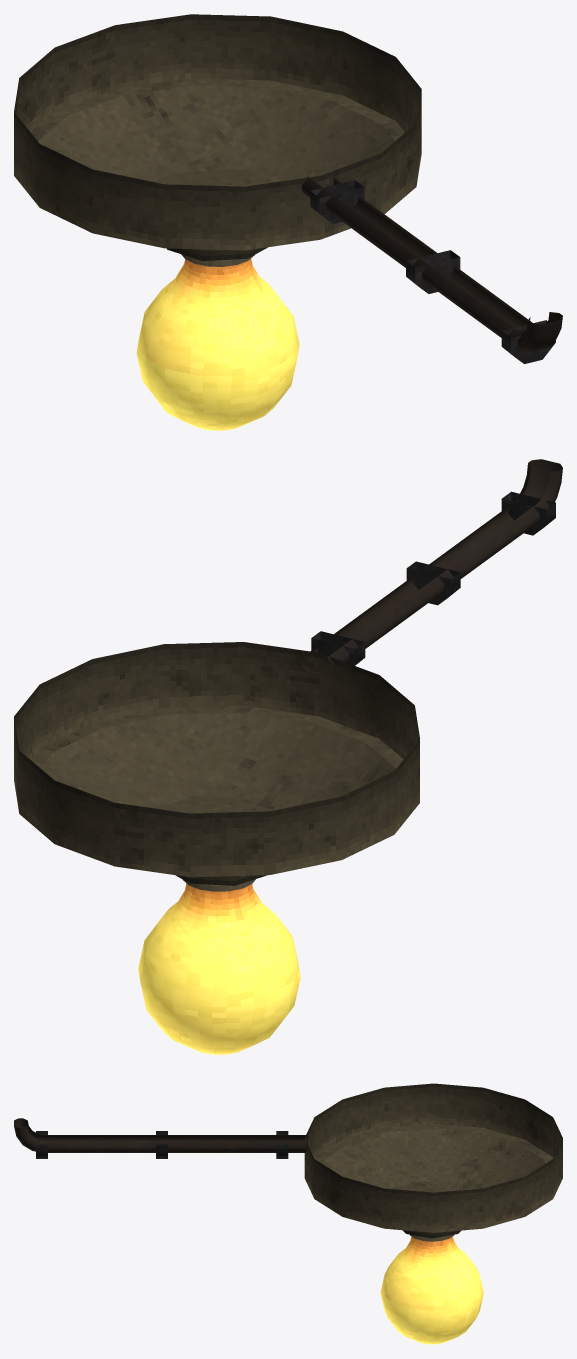
File: ceiling_lamp_mp_1_1_on.glb
The picture shows the model from 3 angles, top to bottom: view 1: azimuth 30°, elevation 25°; view 2: azimuth 150°, elevation 25°; view 3: azimuth 270°, elevation 25°; orthographic projection. The views are drawn at different scales.
Parts seen in each view (by area): view 1: ceiling_lamp_mp_1_1_on; view 2: ceiling_lamp_mp_1_1_on; view 3: ceiling_lamp_mp_1_1_on.
Part boxes in pixels (box(x1,y1,x2,y2)): ceiling_lamp_mp_1_1_on: box(14, 14, 562, 430); ceiling_lamp_mp_1_1_on: box(14, 459, 562, 1054); ceiling_lamp_mp_1_1_on: box(14, 1083, 562, 1344).
Size of the model in its own units: 0.215 by 0.1988 by 0.4568.
4 materials, 4 textured.
